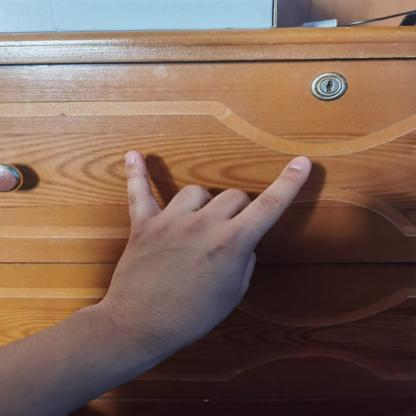U: (120, 147, 313, 322)
